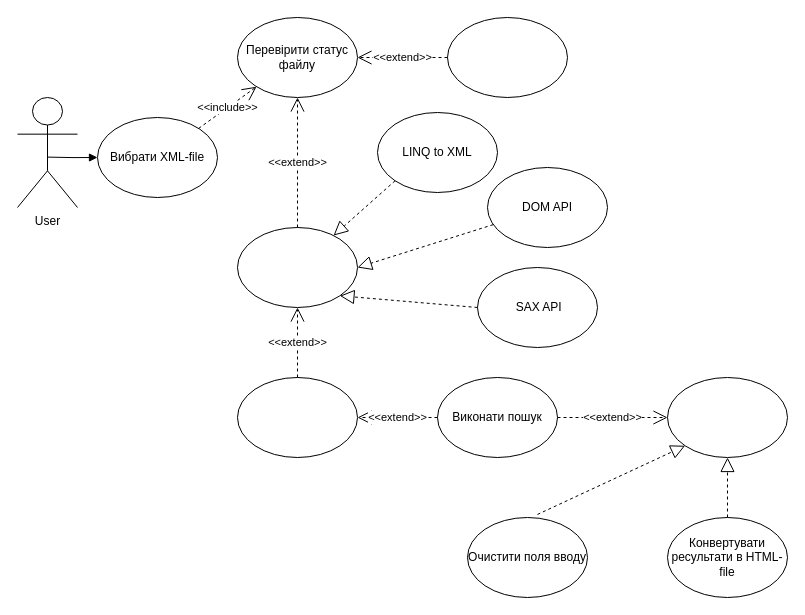
The diagram is 805 pixels wide and 615 high, and some of its shapes have lost their labels. The shapes that lost their labels are listed below. From the top down, each one's box as (x1, y1, x2, y2) in pixels, then its label:
(446, 16, 568, 98): Вийти із програми
(236, 226, 358, 308): Вибрати тип аналізу
(236, 376, 358, 458): Обрати фільтр
(666, 376, 788, 458): Подивитися результати пошуку
